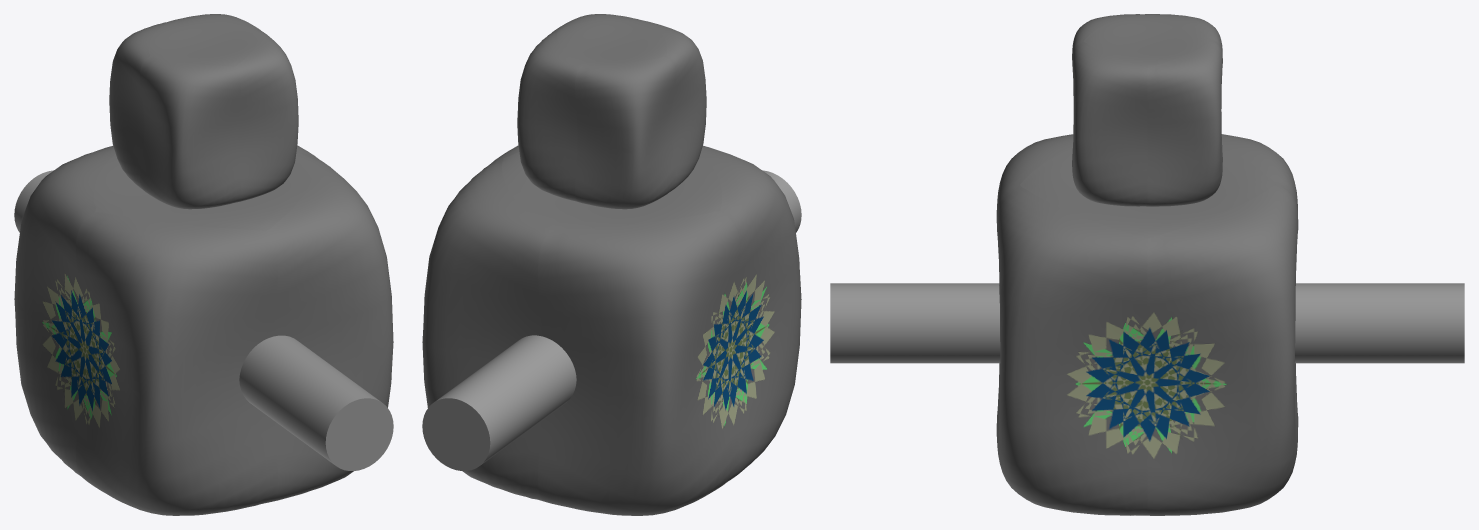
The model's file is Cubic + Null + 2 + Flat + Straight + f (4).png + Cubic.fbx.
3 views of the same model, side by side, from view 1: azimuth 30°, elevation 25°; view 2: azimuth 150°, elevation 25°; view 3: azimuth 270°, elevation 25° (orthographic).
Visible parts, largest first — view 1: Box001, Box002, Cone001, Cone002; view 2: Box001, Box002, Cone002, Cone001; view 3: Box001, Box002, Cone001, Cone002.
Part boxes in pixels (<box>): Box001: <box>14,145,393,515</box>; Box002: <box>109,14,298,209</box>; Cone001: <box>239,335,393,470</box>; Cone002: <box>14,170,53,232</box>; Box001: <box>422,145,801,515</box>; Box002: <box>517,14,706,209</box>; Cone002: <box>422,335,576,470</box>; Cone001: <box>762,170,801,232</box>; Box001: <box>996,134,1298,515</box>; Box002: <box>1072,14,1222,206</box>; Cone001: <box>830,283,1000,363</box>; Cone002: <box>1295,283,1464,363</box>.
Size of the model in its own units: 30.2 by 47.15 by 63.47.
Materials: 3 (2 with a texture image).
